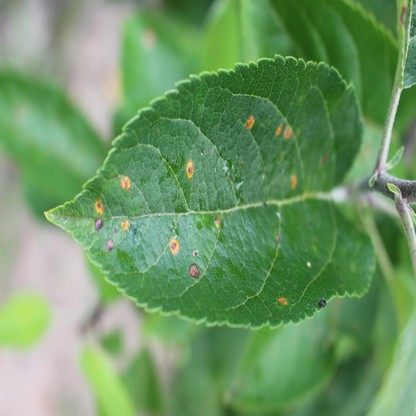rust: (143, 25, 156, 47), (189, 264, 201, 279), (277, 124, 291, 136), (170, 236, 179, 253), (186, 159, 194, 178), (95, 199, 104, 214), (121, 175, 130, 188), (245, 116, 253, 129), (213, 215, 219, 230), (277, 296, 286, 305), (107, 240, 114, 251), (121, 219, 128, 229), (291, 173, 296, 185), (275, 233, 280, 243), (96, 219, 102, 227)
